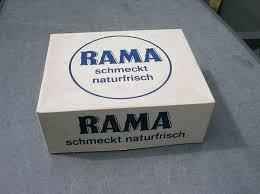cardboard: (34, 27, 213, 152)
